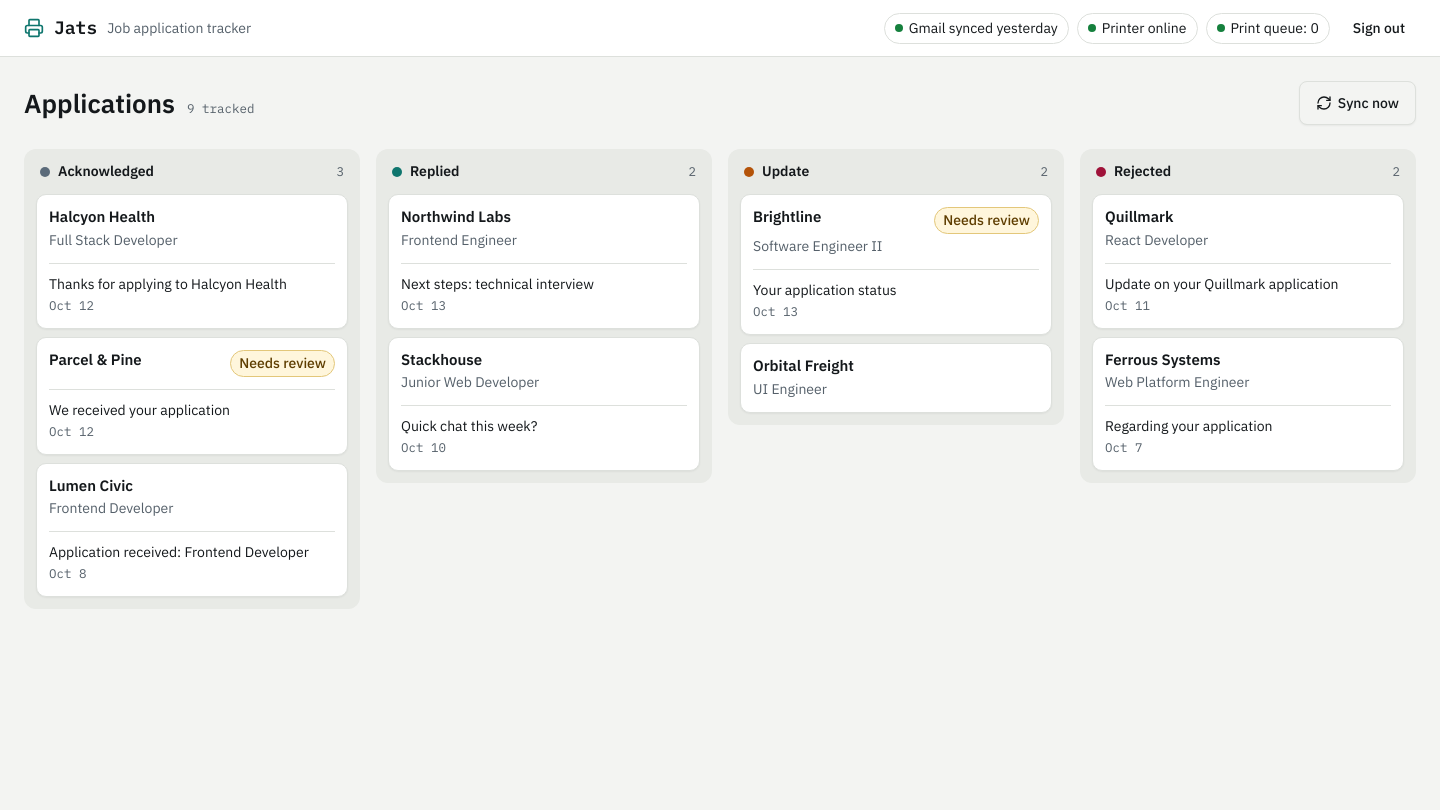
it: clicking a card opens its panel, and Close panel closes it
Click the button "Northwind Labs": click(456, 217) [401, 207, 511, 228]
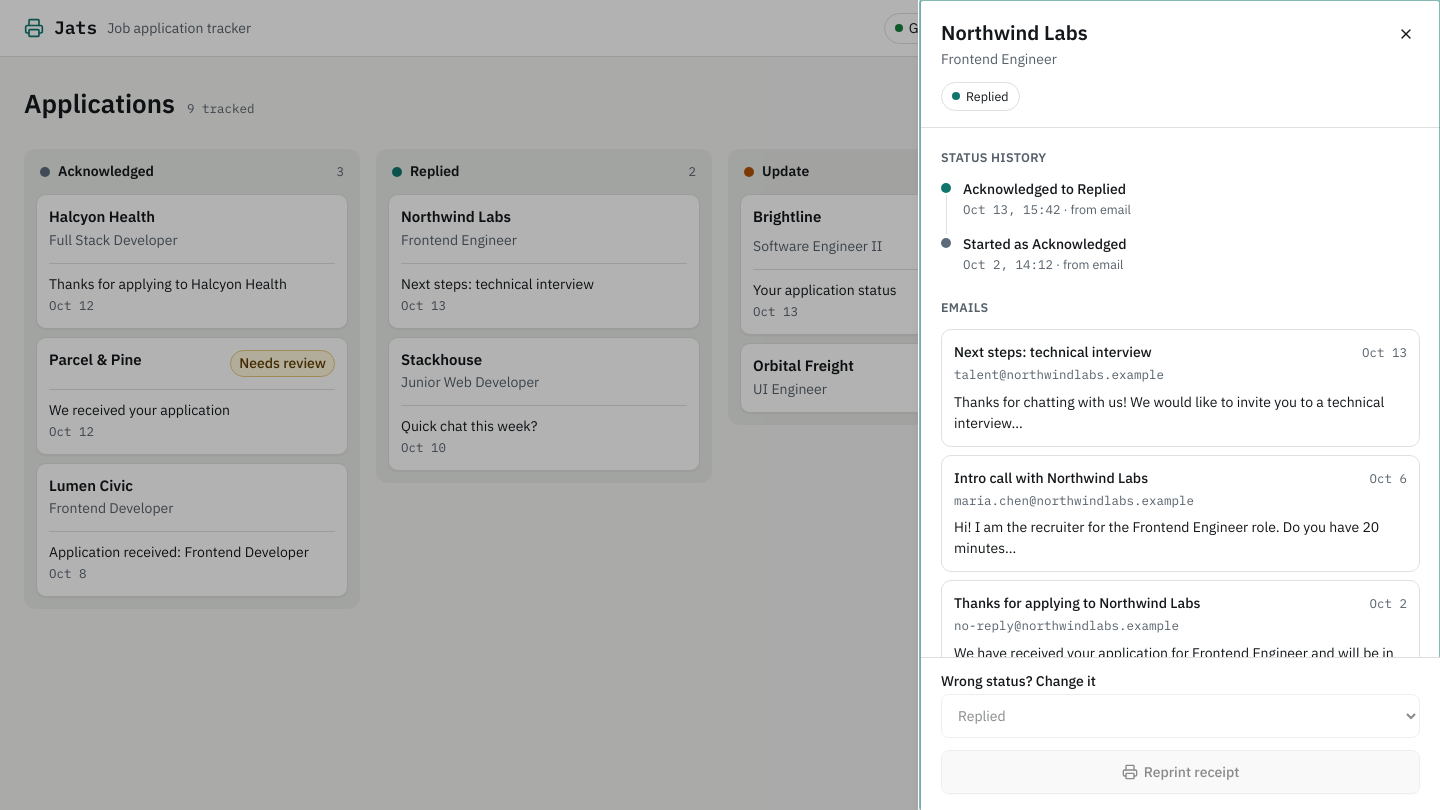
Click the button named "Close panel": click(1406, 34) [1384, 12, 1428, 56]
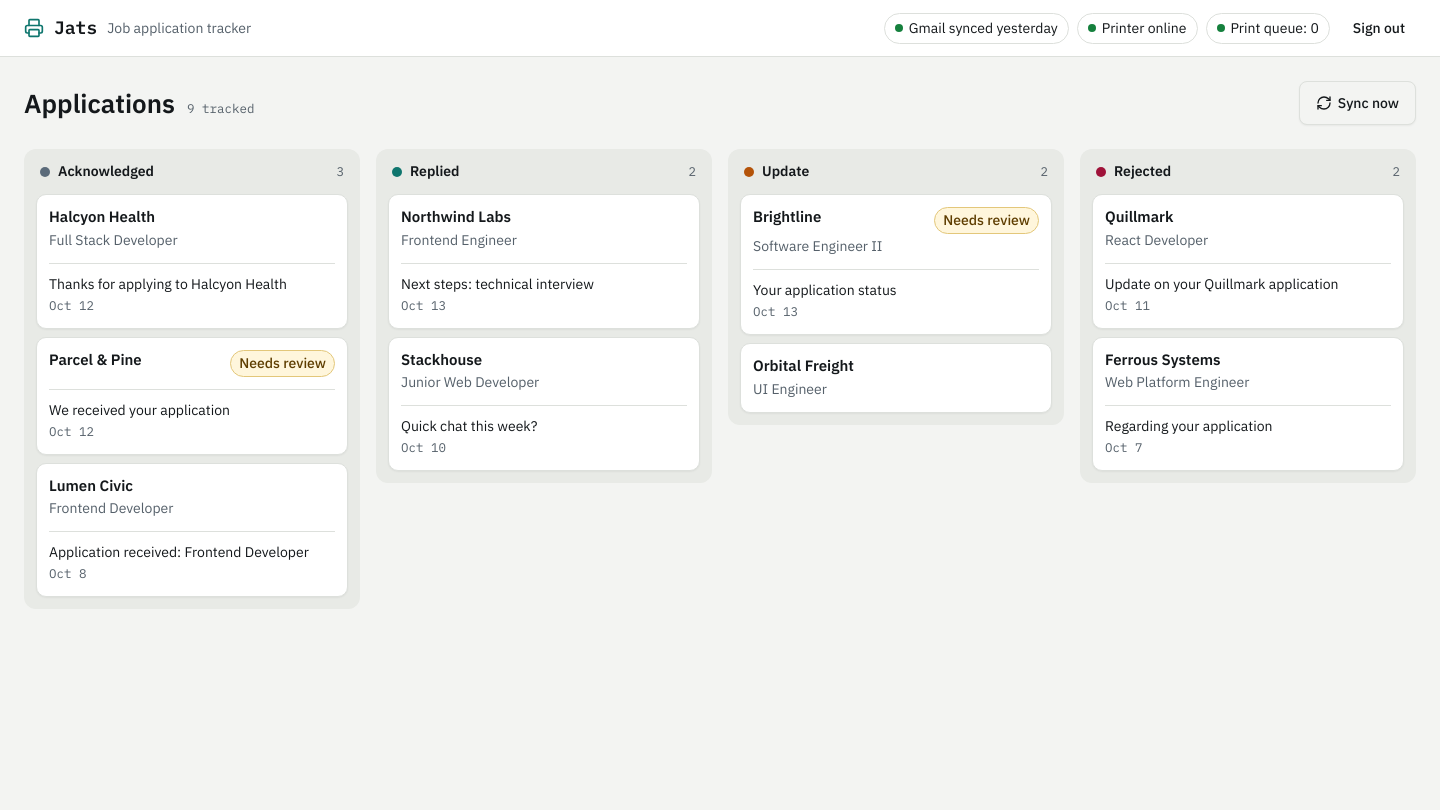
Expected: the dialog is gone
